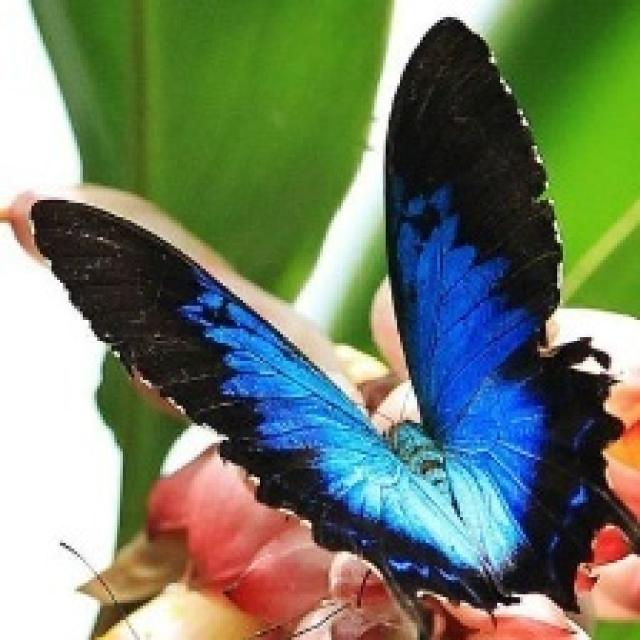butterfly: (23, 14, 637, 637)
